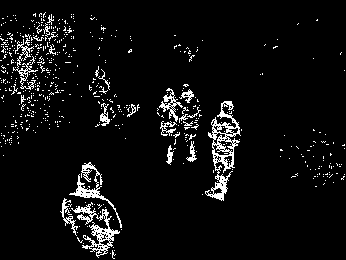person: (62, 159, 123, 259), (209, 100, 242, 203), (156, 87, 181, 169), (177, 83, 201, 164), (90, 68, 112, 128)
